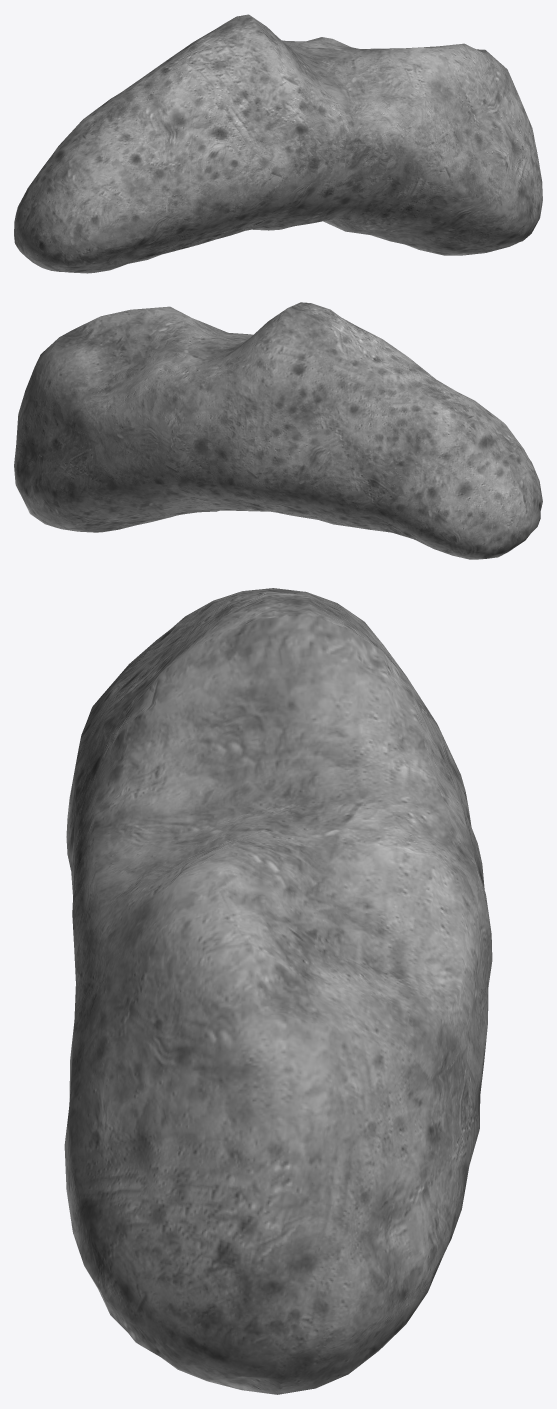
File: eros.glb
The picture shows the model from 3 angles, top to bottom: view 1: azimuth 30°, elevation 25°; view 2: azimuth 150°, elevation 25°; view 3: azimuth 270°, elevation 25°; orthographic projection. The views are drawn at different scales.
Parts seen in each view (by area): view 1: eros_LP; view 2: eros_LP; view 3: eros_LP.
Boxes of the visible parts, x1,y1,x2,y2 form: eros_LP: (14,14,542,273); eros_LP: (14,302,542,559); eros_LP: (64,588,492,1394).
Bounding box in the file's own units: 3.21 × 1.66 × 1.17.
Materials: 1 (1 with a texture image).
